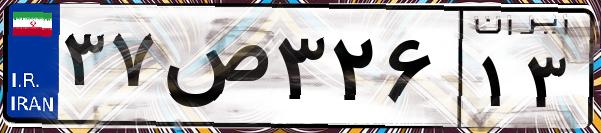1: (475, 38, 525, 113)
2: (330, 28, 385, 110)
3: (270, 28, 330, 110), (57, 26, 110, 100), (525, 38, 570, 115)
6: (385, 28, 445, 110)
7: (110, 28, 158, 98)
ص: (158, 20, 270, 120)
